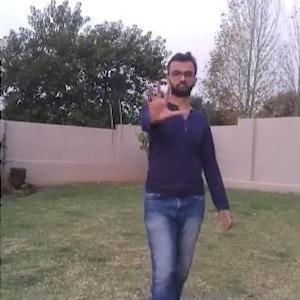follow_hand: (139, 73, 187, 129)
